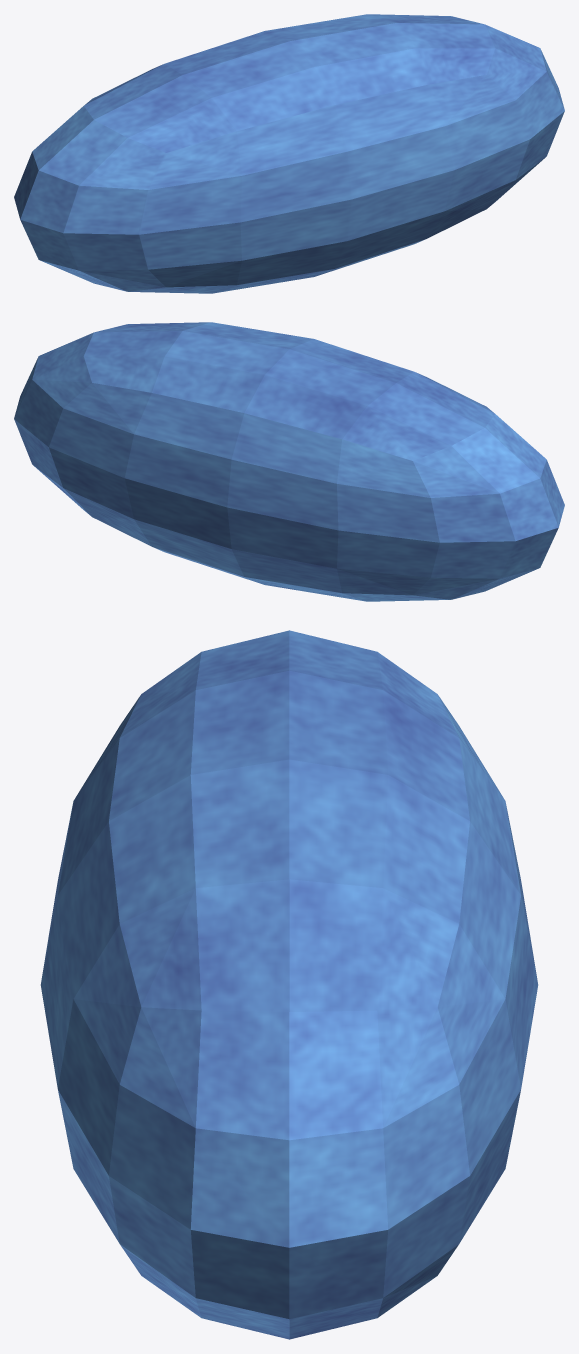
File: playerBullet.obj
The picture shows the model from 3 angles, top to bottom: view 1: azimuth 30°, elevation 25°; view 2: azimuth 150°, elevation 25°; view 3: azimuth 270°, elevation 25°; orthographic projection. The views are drawn at different scales.
Visible parts, largest first — view 1: Cube; view 2: Cube; view 3: Cube.
Boxes of the visible parts, bbox=[...] form: Cube: bbox=[14, 14, 564, 293]; Cube: bbox=[14, 322, 564, 601]; Cube: bbox=[40, 630, 538, 1339].
Size of the model in its own units: 4.2 by 1.68 by 1.68.
1 material, 1 textured.
